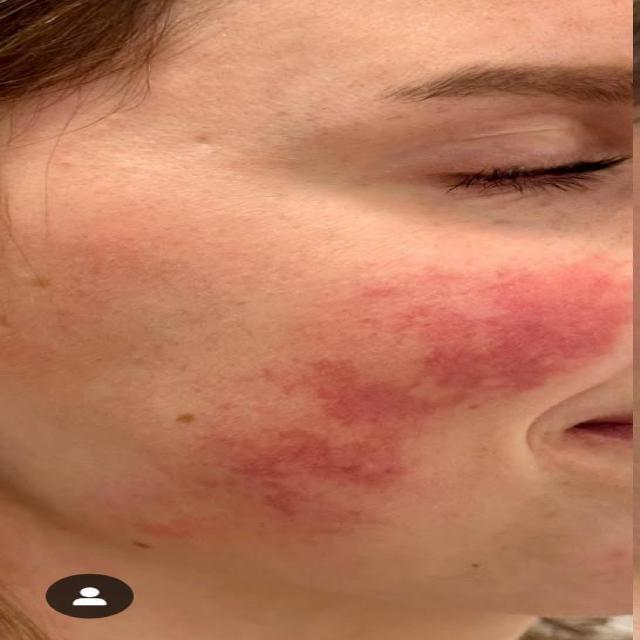Rosacea: (212, 263, 622, 493)
